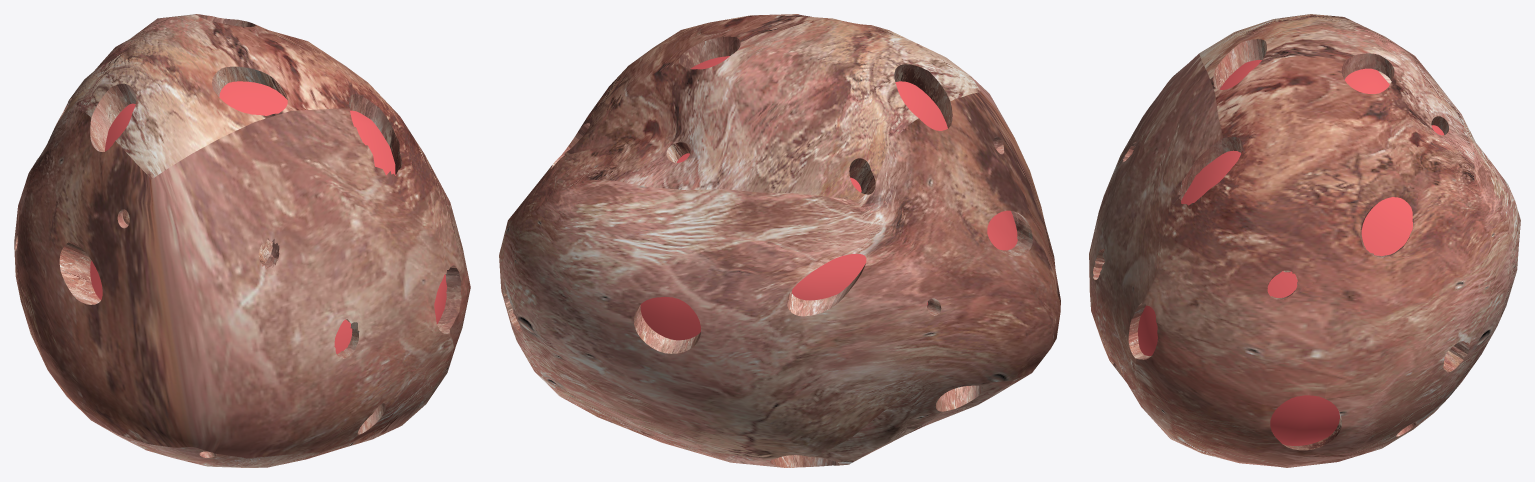
Rendered from meteor-3.glb.
3 renders of one model, left to right at view 1: azimuth 30°, elevation 25°; view 2: azimuth 150°, elevation 25°; view 3: azimuth 270°, elevation 25°, orthographic. The views are drawn at different scales.
Parts seen in each view (by area): view 1: Cube.005, Cube.003; view 2: Cube.005, Cube.003; view 3: Cube.005, Cube.003.
Boxes of the visible parts, box(x1,y1,x2,y2) form: Cube.005: box(14, 14, 470, 467); Cube.003: box(90, 81, 447, 353); Cube.005: box(499, 14, 1060, 467); Cube.003: box(640, 56, 1017, 340); Cube.005: box(1089, 14, 1520, 467); Cube.003: box(1137, 60, 1444, 445).
Size of the model in its own units: 0.7773 by 0.6894 by 0.72.
2 materials, 1 textured.
